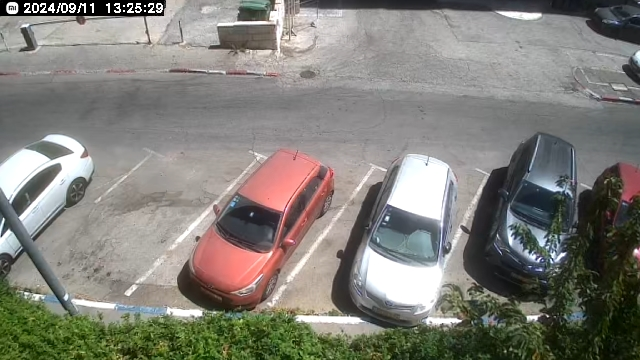empty: (40, 137, 217, 305)
